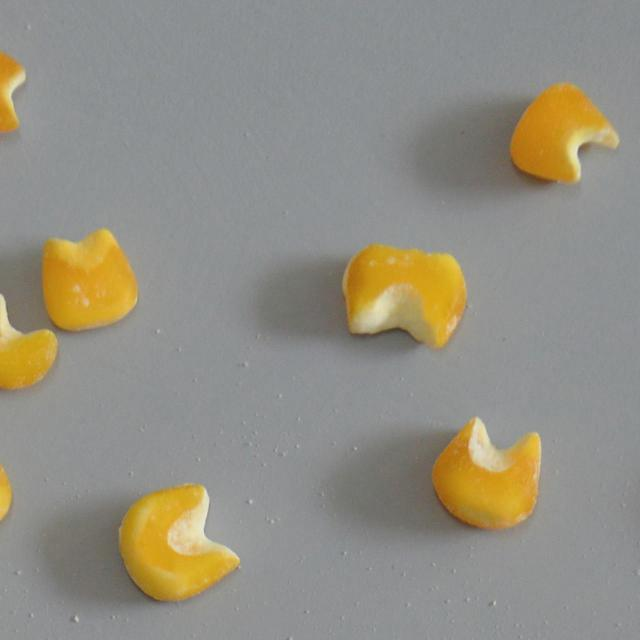no_canjicado: (117, 482, 240, 604), (505, 80, 620, 182), (0, 42, 26, 134)
pelicula: (340, 241, 467, 346), (428, 414, 542, 528), (40, 224, 138, 332), (0, 288, 58, 390), (0, 437, 12, 545)
